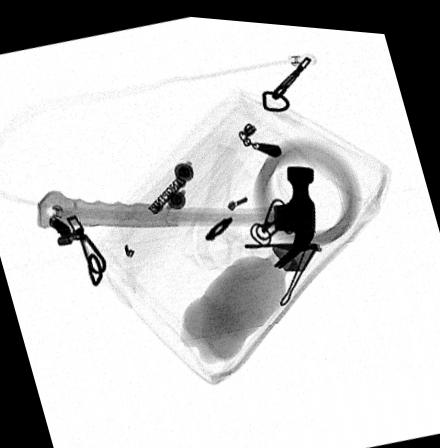Hammer: (37, 160, 315, 263)
